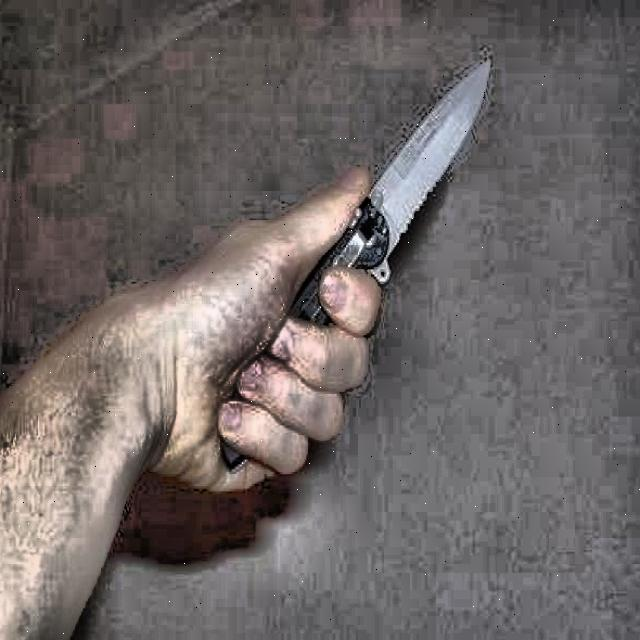knife: (223, 63, 490, 474)
